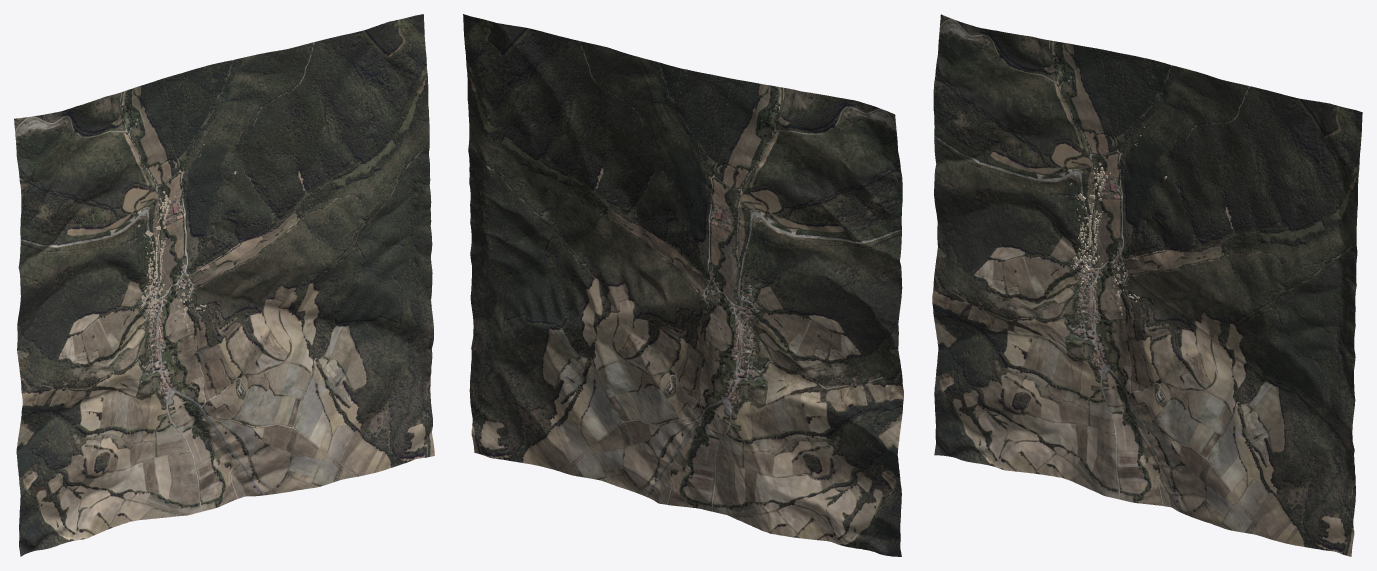
Rendered from tile.gltf.
3 views of the same model, side by side, from view 1: azimuth 30°, elevation 25°; view 2: azimuth 150°, elevation 25°; view 3: azimuth 330°, elevation 25° (orthographic). The views are drawn at different scales.
Parts seen in each view (by area): view 1: IGN MDT05 terrain, OSM building outlines; view 2: IGN MDT05 terrain; view 3: IGN MDT05 terrain, OSM building outlines.
Part boxes in pixels (x1,y1,x2,y2): IGN MDT05 terrain: (14,14,434,556); OSM building outlines: (138,134,236,331); IGN MDT05 terrain: (463,14,903,556); IGN MDT05 terrain: (932,14,1362,556); OSM building outlines: (1069,127,1166,315).
Size of the model in its own units: 3000 by 3000 by 194.
Materials: 2 (1 with a texture image).
